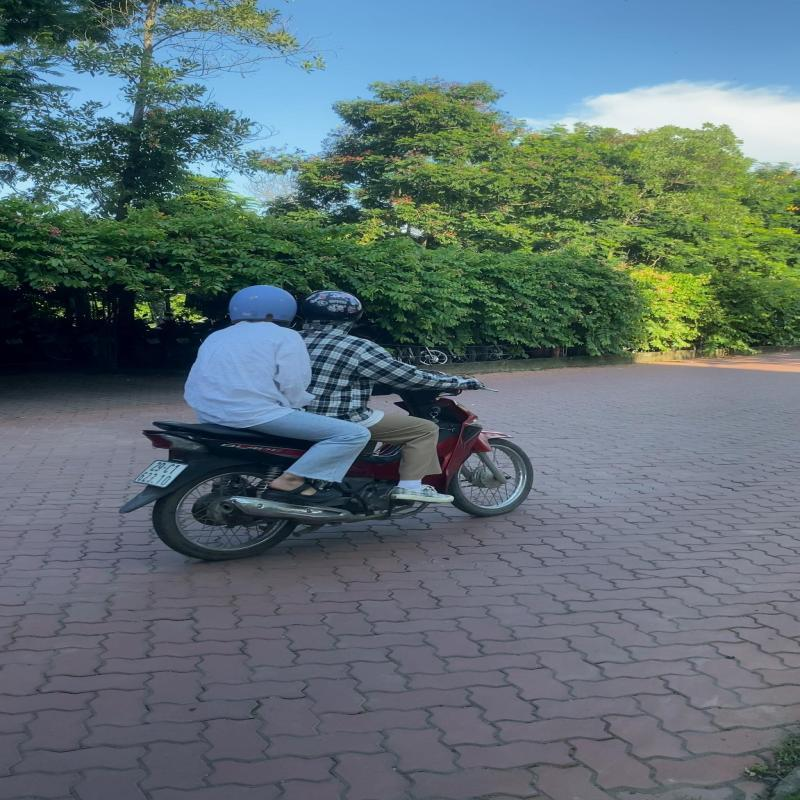helmet: (226, 285, 296, 323), (302, 289, 366, 323)
licenseplate: (133, 457, 192, 491)
motorcyclist: (113, 283, 540, 562)
